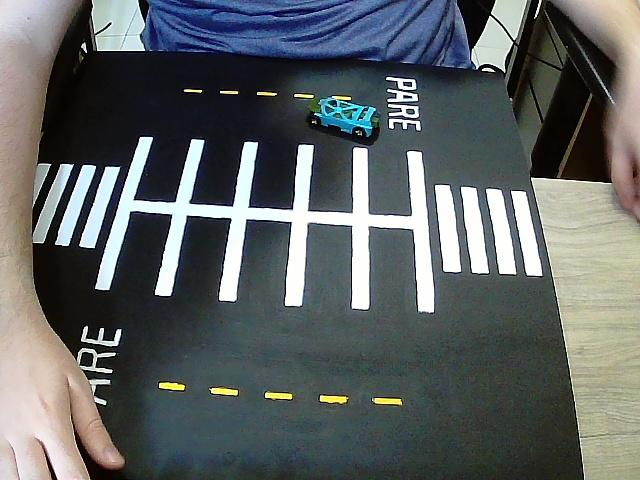Carro: (305, 96, 382, 147)
